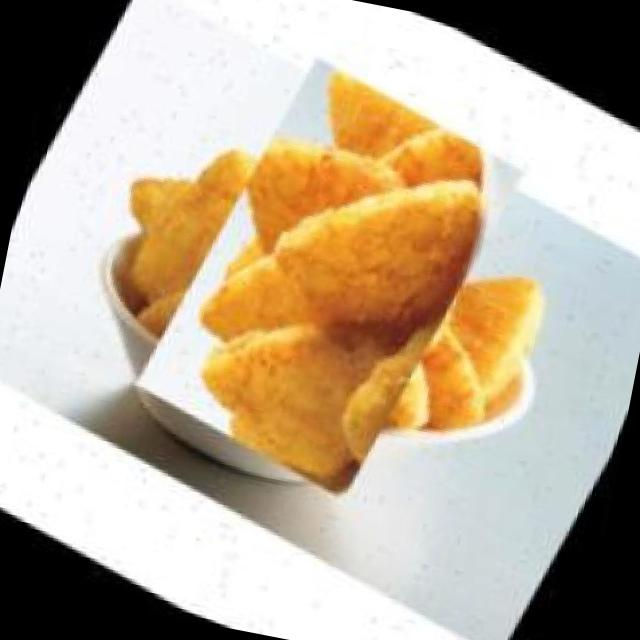triangle_hash_brown: (96, 44, 565, 514)
